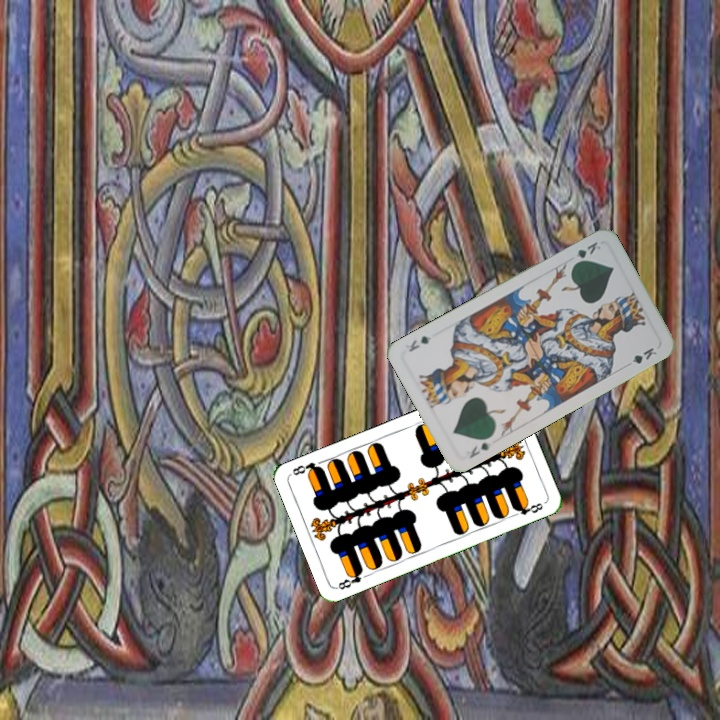E8: (333, 565, 366, 592)
GK: (569, 237, 603, 268), (465, 438, 494, 461)
